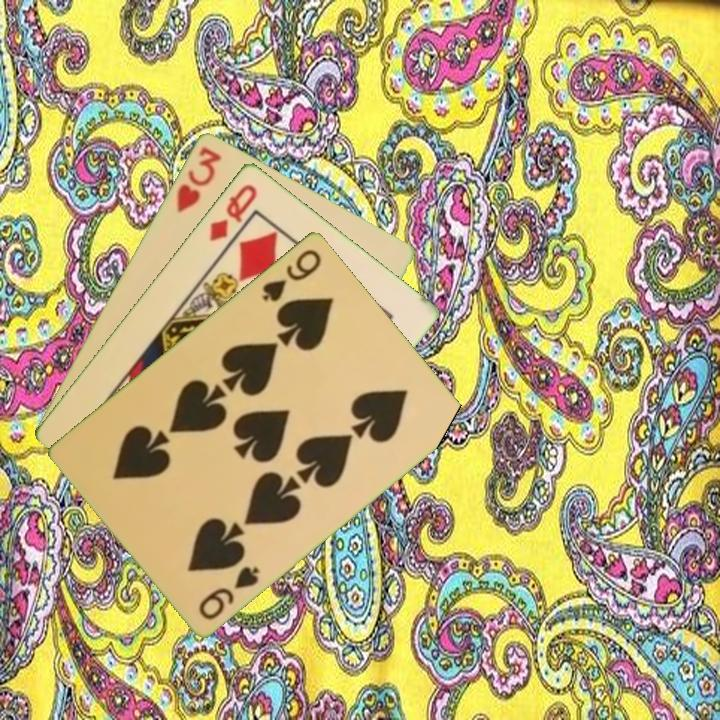3h: (172, 142, 225, 215)
9s: (195, 561, 263, 622), (259, 244, 324, 305)
Qd: (205, 180, 261, 244)
